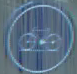bike lane: (6, 7, 67, 63)
